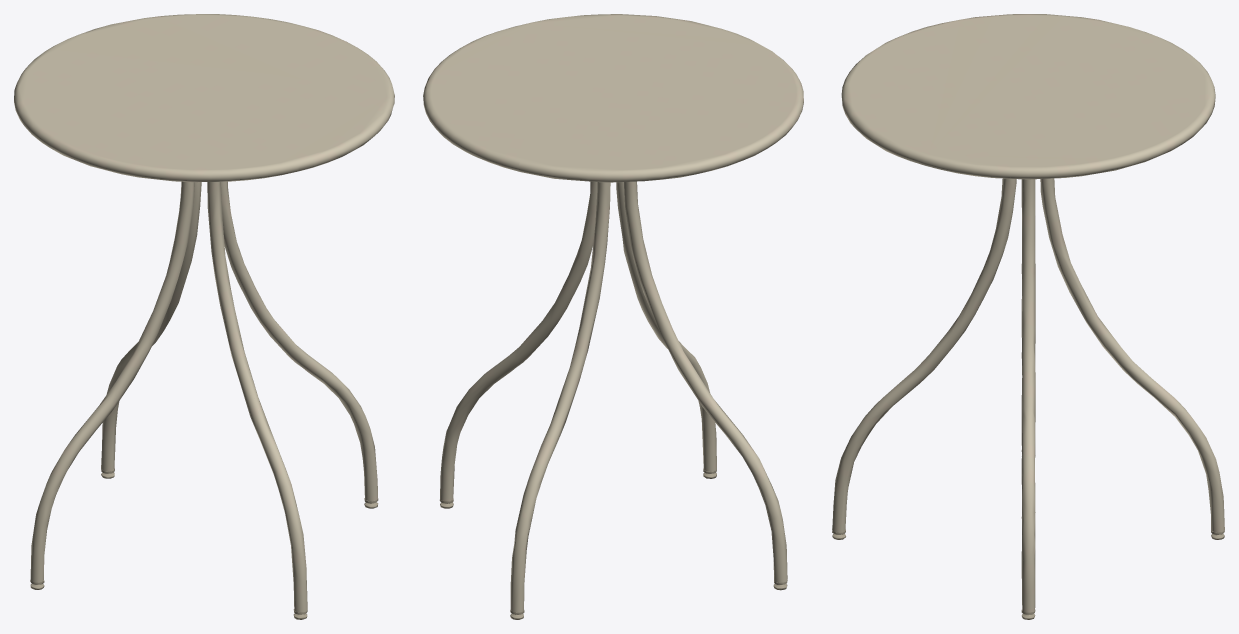
Rendered from tanebro_stolik_60554988.glb.
The picture shows the model from 3 angles, left to right: view 1: azimuth 30°, elevation 25°; view 2: azimuth 150°, elevation 25°; view 3: azimuth 270°, elevation 25°; orthographic projection.
Visible parts, largest first — view 1: tanebro_stolik_60554988; view 2: tanebro_stolik_60554988; view 3: tanebro_stolik_60554988.
Boxes of the visible parts, <box> form: tanebro_stolik_60554988: <box>14,14,394,619</box>; tanebro_stolik_60554988: <box>423,14,803,619</box>; tanebro_stolik_60554988: <box>832,14,1224,619</box>.
Size of the model in its own units: 0.483 by 0.6055 by 0.4829.
Materials: 5 (5 with a texture image).
